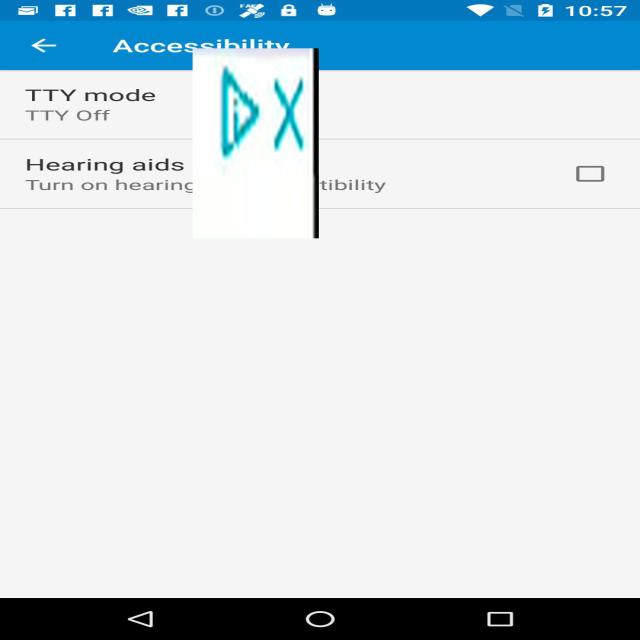sneaking: (192, 48, 318, 238)
